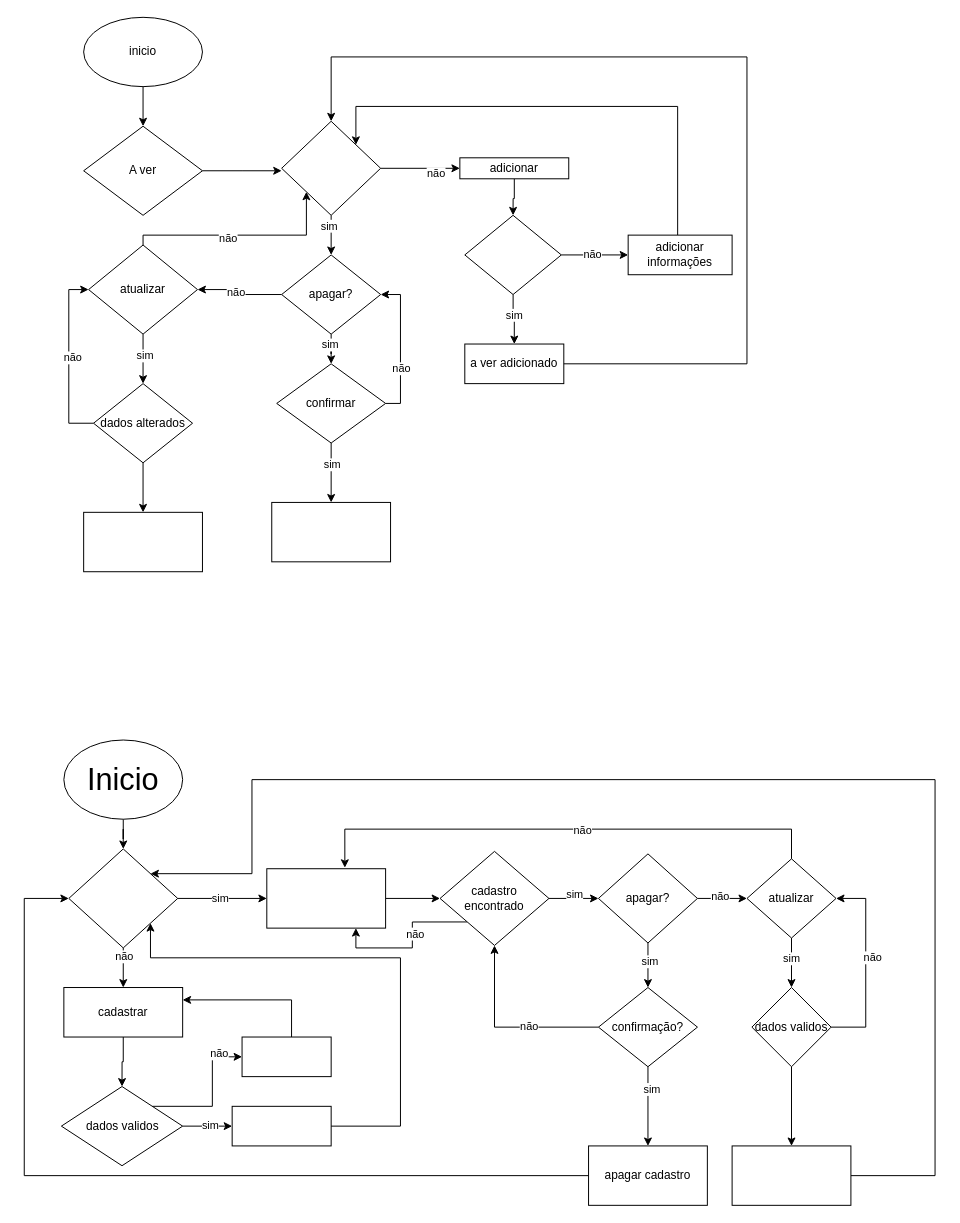
Image size: 960x1223. Some labels were removed from this diagram. Here are the shapes that lost their labels. From the top down, the box of each, then its label:
(281, 120, 381, 215): tem a ver?
(464, 214, 561, 295): dados informados
(83, 511, 202, 572): dados atualizados
(271, 501, 391, 562): a ver apagado?
(68, 848, 178, 948): tem cadastro
(266, 868, 386, 928): buscar cadastro
(241, 1036, 331, 1077): mostrar erro
(231, 1105, 331, 1146): cadastro realizado
(731, 1145, 851, 1205): cadastro atualizado
